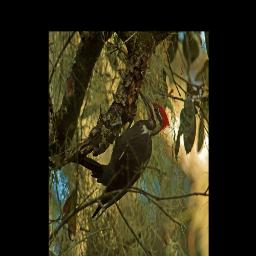Woodpecker: (89, 90, 171, 221)
